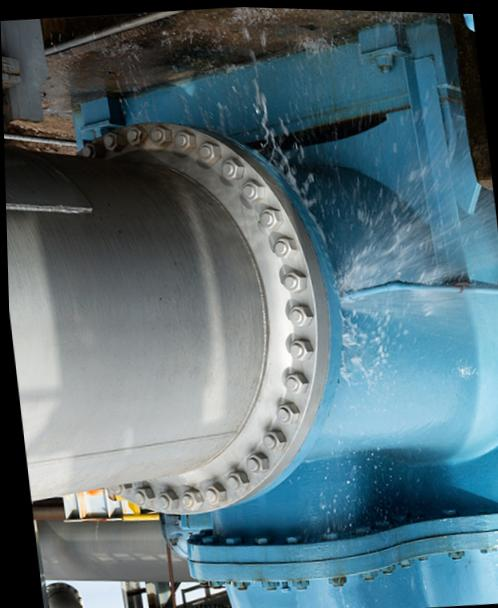leak: (99, 7, 479, 411)
